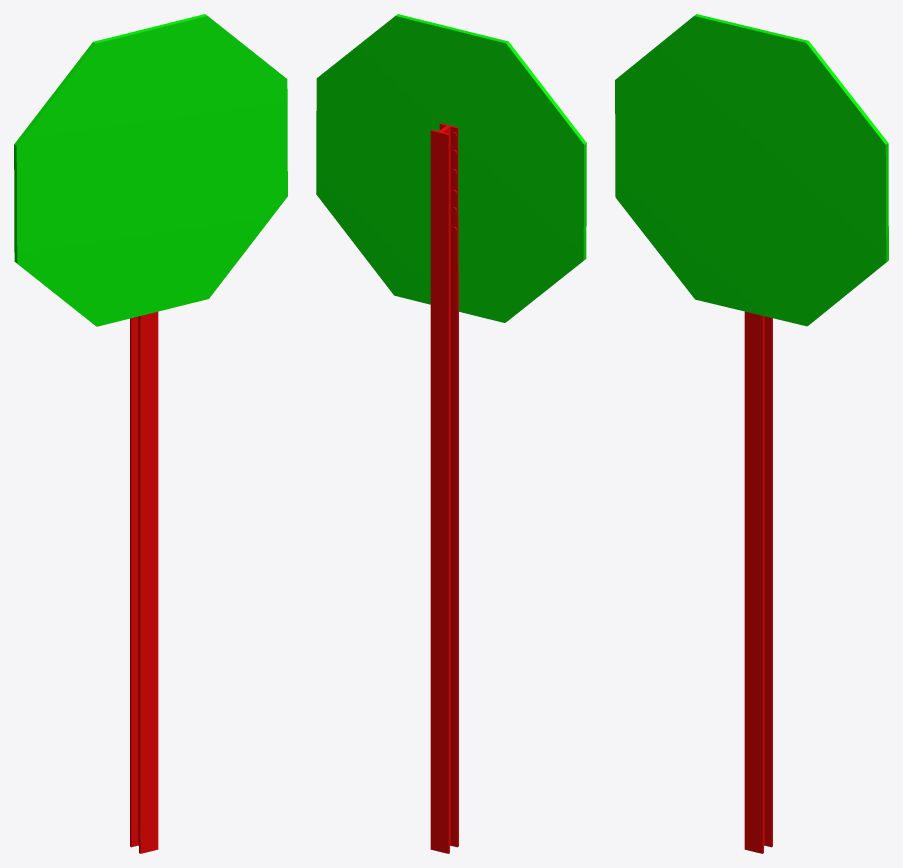
The model's file is Stop Sign.fbx.
3 views of the same model, side by side, from view 1: azimuth 30°, elevation 25°; view 2: azimuth 150°, elevation 25°; view 3: azimuth 330°, elevation 25° (orthographic).
Visible parts, largest first — view 1: Oil_Tank, Cube; view 2: Oil_Tank, Cube; view 3: Oil_Tank, Cube.
Part boxes in pixels (x1,y1,x2,y2): Oil_Tank: (14,14,287,326); Cube: (130,311,158,853); Oil_Tank: (316,14,586,322); Cube: (430,123,458,853); Oil_Tank: (615,14,888,326); Cube: (744,311,772,853).
Bounding box in the file's own units: 95.65 × 278 × 8.67.
